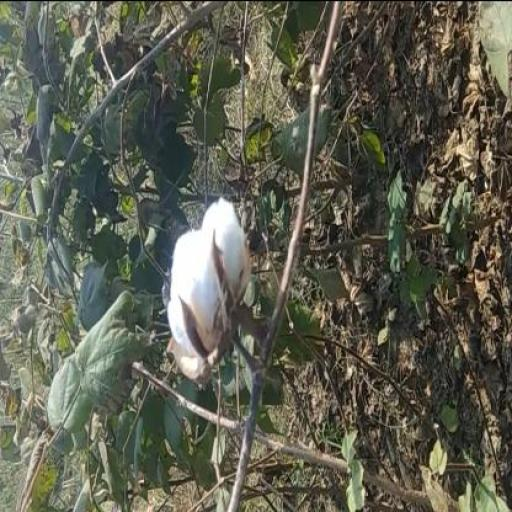cotton_ready: (145, 191, 277, 411)
